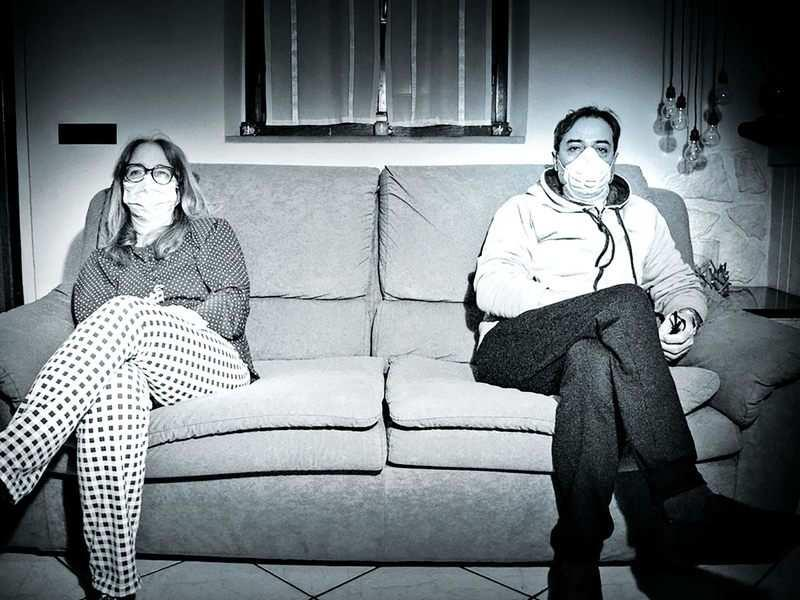OK: (564, 124, 618, 193), (125, 160, 177, 224)
